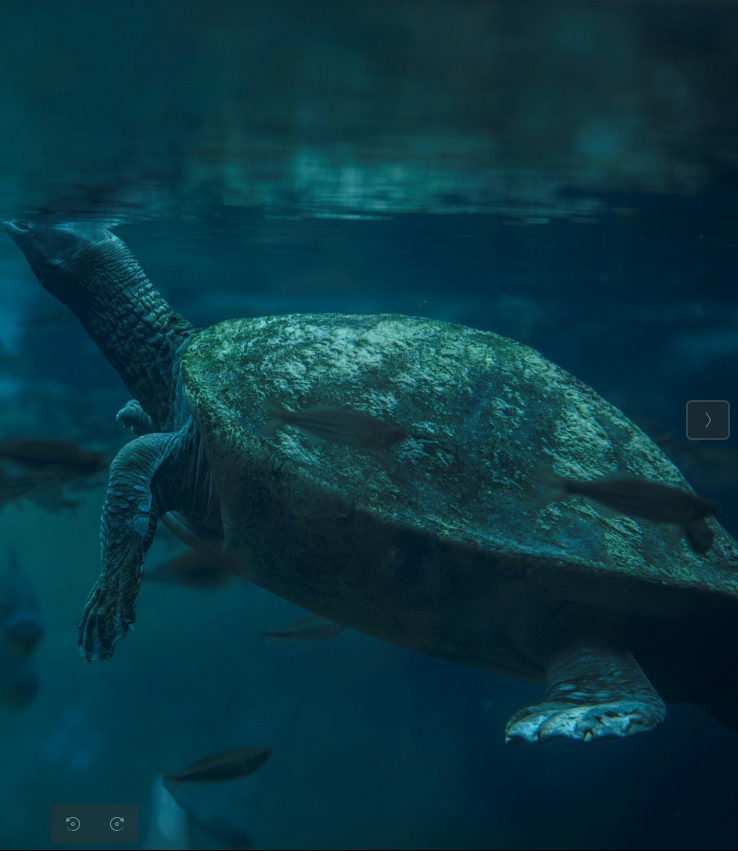fishSmall: (532, 465, 721, 523), (265, 402, 413, 452), (162, 745, 273, 791)
turtle: (5, 216, 738, 747)
